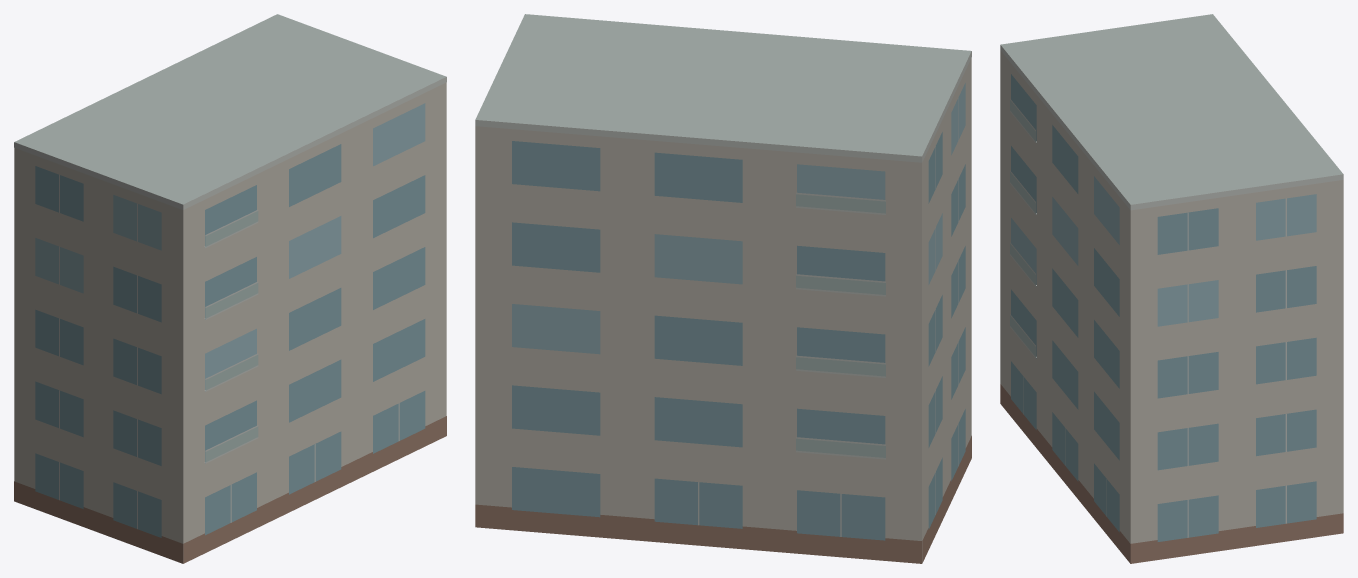
File: survey-upis-33029248.glb
3 views of the same model, side by side, from view 1: azimuth 30°, elevation 25°; view 2: azimuth 150°, elevation 25°; view 3: azimuth 270°, elevation 25° (orthographic). The views are drawn at different scales.
Visible parts, largest first — view 1: survey-upis-33029248.tmp; view 2: survey-upis-33029248.tmp; view 3: survey-upis-33029248.tmp.
Part boxes in pixels (x1=…): survey-upis-33029248.tmp: x1=14, y1=14, x2=446, y2=563; survey-upis-33029248.tmp: x1=475, y1=14, x2=971, y2=563; survey-upis-33029248.tmp: x1=1000, y1=14, x2=1343, y2=563.
Size of the model in its own units: 18.03 by 15.8 by 13.7.
